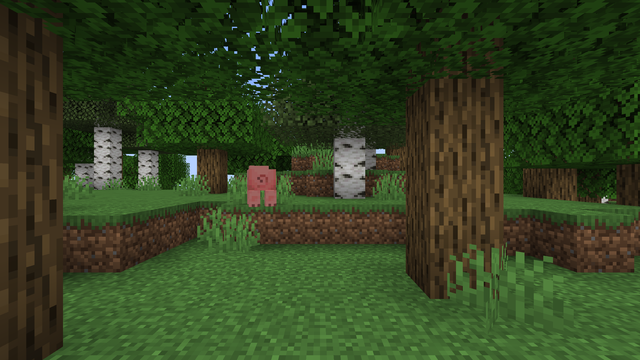cochons: (237, 168, 281, 206)
